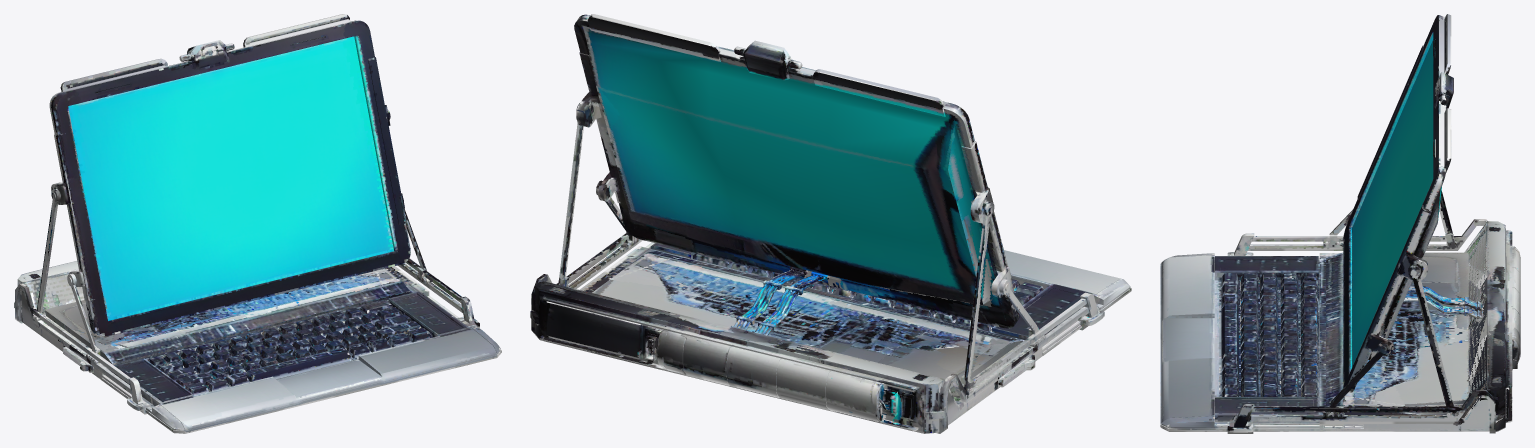
3 views of the same model, side by side, from view 1: azimuth 30°, elevation 25°; view 2: azimuth 150°, elevation 25°; view 3: azimuth 270°, elevation 25° (orthographic). The views are drawn at different scales.
Visible parts, largest first — view 1: 9.001; view 2: 9.001; view 3: 9.001.
Boxes of the visible parts, x1=… form: 9.001: x1=14, y1=14, x2=501, y2=433; 9.001: x1=530, y1=14, x2=1131, y2=433; 9.001: x1=1160, y1=14, x2=1520, y2=433.
Size of the model in its own units: 2 by 1.43 by 1.72.
Materials: 1 (1 with a texture image).
